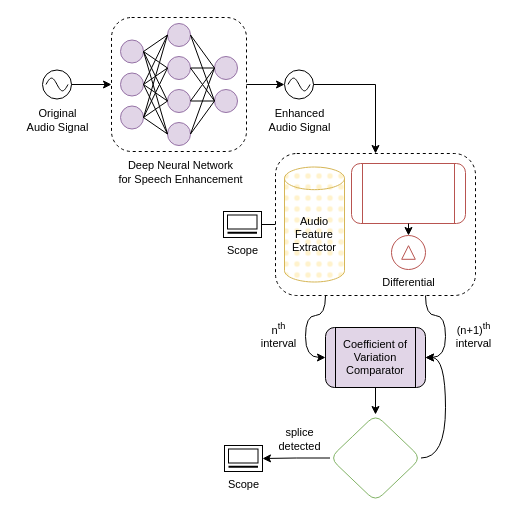
The diagram is 518 pixels wide and 519 high, and some of its shapes have lost their labels. The centre of each missing label's shape, as x and y in pixels:
if cv > threshold: point (375, 458)
Mel Frequency Cepstrum: point (408, 193)
